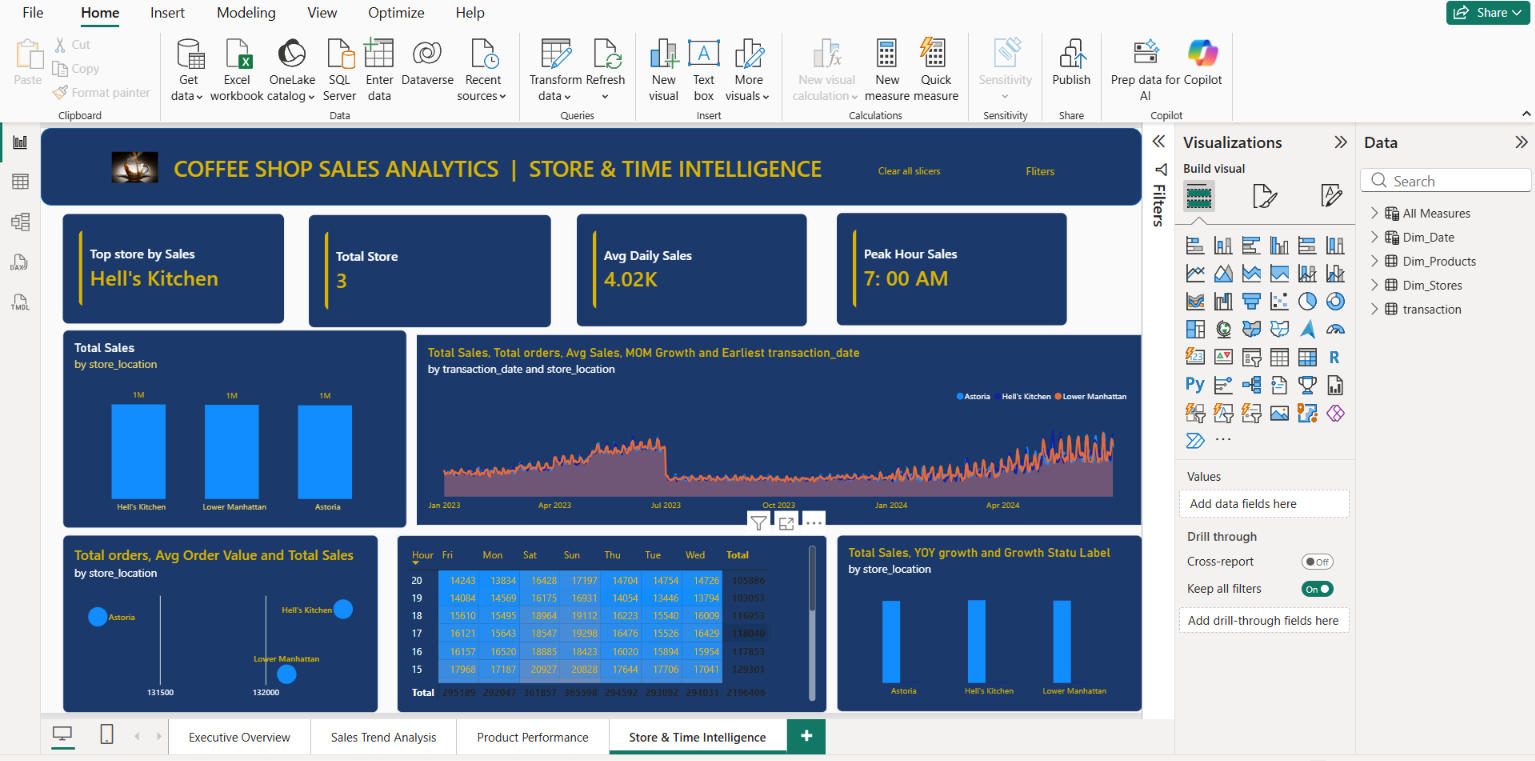

This screenshot's page, from the dashboard's own definition file:
{"tool":"powerbi","page":{"name":"Store & Time Intelligence","canvas":[1600,850],"ordinal":3},"visuals":[{"type":"shape","box":[0,0,1600.3,112.5],"z":0},{"type":"textbox","box":[193.3,36.3,963.7,48],"z":1000},{"type":"cardVisual","fields":{"Data":["All Measures.Avg Daily Sales"]},"box":[779.7,125.6,334.4,163.5],"z":8000},{"type":"cardVisual","fields":{"Data":["All Measures.Top store by Sales"]},"box":[32.1,125.6,321.2,159.2],"z":9000},{"type":"cardVisual","fields":{"Data":["All Measures.Total Store"]},"box":[389.9,127,351.9,163.5],"z":10000},{"type":"cardVisual","fields":{"Data":["All Measures.Peak Hour Sales"]},"box":[1157.2,124.2,334.4,163.5],"z":11000},{"type":"columnChart","fields":{"Category":["Dim_Stores.store_location"],"Y":["All Measures.Total Sales"]},"box":[32,293.6,500,287.8],"z":13000},{"type":"areaChart","fields":{"Category":["transaction.transaction_date"],"Series":["Dim_Stores.store_location"],"Y":["All Measures.Total Sales"]},"box":[547,300.7,1052.7,276],"z":14000},{"type":"pivotTable","fields":{"Columns":["Dim_Date.Week Day Name"],"Rows":["transaction.Hour"],"Values":["All Measures.Total Sales"]},"box":[517.4,591.1,625.7,258.7],"z":16000},{"type":"image","box":[103.7,29.2,67.2,55.5],"z":17001},{"type":"actionButton","box":[1376.5,36.3,152.6,52.3],"z":17002},{"type":"actionButton","box":[1200.6,36.3,124.2,52.3],"z":17008},{"type":"scatterChart","fields":{"Category":["Dim_Stores.store_location","Dim_Date.Date.Variation.Date Hierarchy.Year","Dim_Date.Date.Variation.Date Hierarchy.Month"],"Size":["All Measures.Total Sales"],"X":["All Measures.Total orders"],"Y":["All Measures.Avg Order Value"]},"box":[31.6,591.1,458.7,258.7],"z":17009},{"type":"clusteredColumnChart","fields":{"Category":["Dim_Stores.store_location"],"Y":["All Measures.Total Sales","All Measures.YOY growth"]},"box":[1156.6,591.1,443.7,257.2],"z":17010}]}

Visuals, with their boxes on the page's 1600x850 design canvas (x1, y1, x2, y2). These are canvas units, not pixel positions in the 1535x761 screenshot, which may show the page scaled, cropped or inside an application window:
shape: locate(0, 0, 1600, 112)
textbox: locate(193, 36, 1157, 84)
cardVisual - All Measures.Avg Daily Sales: locate(780, 126, 1114, 289)
cardVisual - All Measures.Top store by Sales: locate(32, 126, 353, 285)
cardVisual - All Measures.Total Store: locate(390, 127, 742, 290)
cardVisual - All Measures.Peak Hour Sales: locate(1157, 124, 1492, 288)
columnChart - Dim_Stores.store_location x All Measures.Total Sales: locate(32, 294, 532, 581)
areaChart - transaction.transaction_date x Dim_Stores.store_location: locate(547, 301, 1600, 577)
pivotTable - Dim_Date.Week Day Name x transaction.Hour: locate(517, 591, 1143, 850)
image: locate(104, 29, 171, 85)
actionButton: locate(1376, 36, 1529, 89)
actionButton: locate(1201, 36, 1325, 89)
scatterChart - Dim_Stores.store_location x Dim_Date.Date.Variation.Date Hierarchy.Year: locate(32, 591, 490, 850)
clusteredColumnChart - Dim_Stores.store_location x All Measures.Total Sales: locate(1157, 591, 1600, 848)
